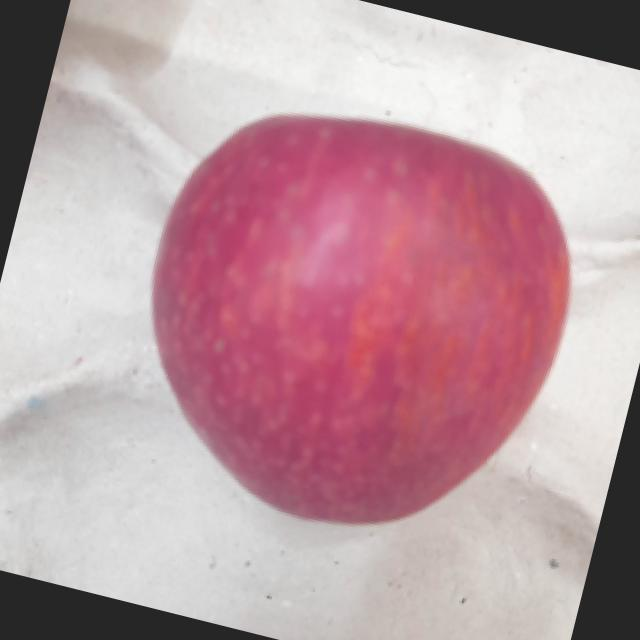Fresh_Apple: (77, 48, 614, 586)
